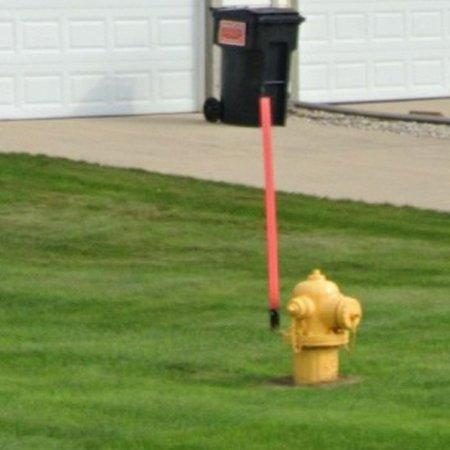a fire hydrant: (287, 270, 363, 386)
